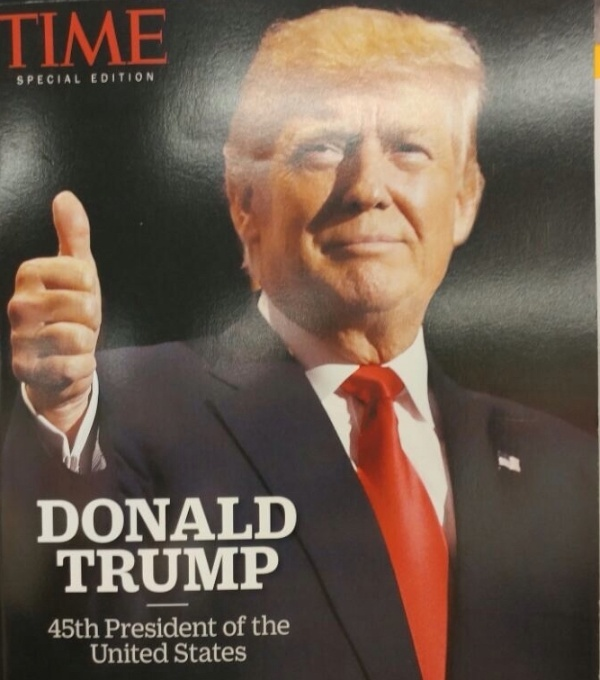text: (17, 8, 32, 68), (33, 8, 48, 68), (49, 8, 64, 68), (65, 8, 80, 68), (81, 8, 96, 68), (97, 8, 112, 68), (113, 8, 128, 68), (129, 8, 144, 68), (145, 8, 160, 68), (2, 8, 16, 68), (49, 495, 64, 545), (65, 495, 80, 545), (81, 495, 96, 545), (97, 495, 112, 545), (113, 495, 128, 545), (129, 495, 144, 545), (145, 495, 160, 545), (161, 495, 176, 545), (177, 495, 192, 545), (193, 495, 208, 545), (209, 495, 224, 545), (225, 495, 240, 545), (241, 495, 256, 545), (257, 495, 272, 545), (273, 495, 288, 545), (65, 545, 80, 594), (81, 545, 96, 594), (97, 545, 112, 594), (113, 545, 128, 594), (129, 545, 144, 594), (145, 545, 160, 594), (161, 545, 176, 594), (177, 545, 192, 594), (193, 545, 208, 594), (209, 545, 224, 594), (225, 545, 240, 594), (241, 545, 256, 594), (257, 545, 272, 594), (36, 495, 48, 545), (161, 8, 170, 68), (289, 495, 298, 545), (55, 545, 64, 594), (257, 613, 272, 636), (273, 613, 288, 636), (113, 616, 128, 639), (129, 616, 144, 639), (145, 616, 160, 639), (161, 616, 176, 639), (177, 616, 192, 639), (193, 616, 208, 639), (97, 642, 112, 664), (113, 642, 128, 664), (129, 642, 144, 664), (145, 642, 160, 664), (225, 615, 240, 637), (177, 642, 192, 663), (193, 642, 208, 663), (209, 642, 224, 663), (225, 642, 240, 663), (49, 618, 64, 639), (65, 618, 80, 639), (81, 618, 96, 639), (273, 545, 279, 594), (209, 616, 218, 639), (161, 642, 170, 664), (17, 73, 32, 86), (33, 73, 48, 86), (49, 73, 64, 86), (65, 73, 80, 86), (97, 72, 112, 83), (113, 72, 128, 83), (129, 72, 144, 83), (105, 616, 112, 639), (241, 615, 248, 637), (90, 642, 96, 664), (241, 642, 247, 663), (251, 613, 256, 636), (145, 72, 155, 83), (91, 72, 96, 83), (174, 642, 176, 663), (97, 618, 99, 639), (289, 613, 290, 636), (223, 615, 224, 637), (81, 73, 82, 86)
